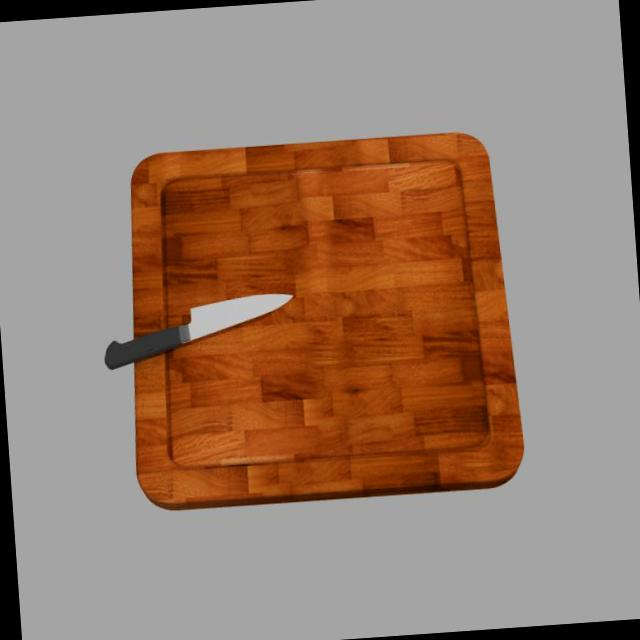knife: (102, 326, 184, 370)
